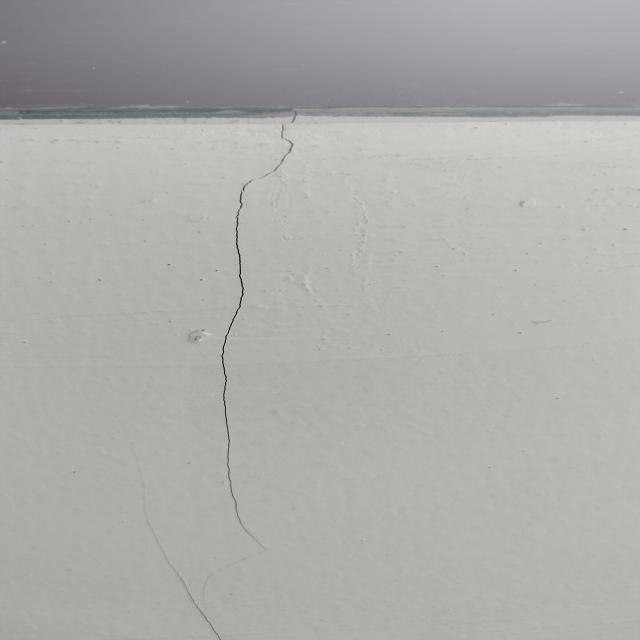Crack: (198, 126, 300, 546)
